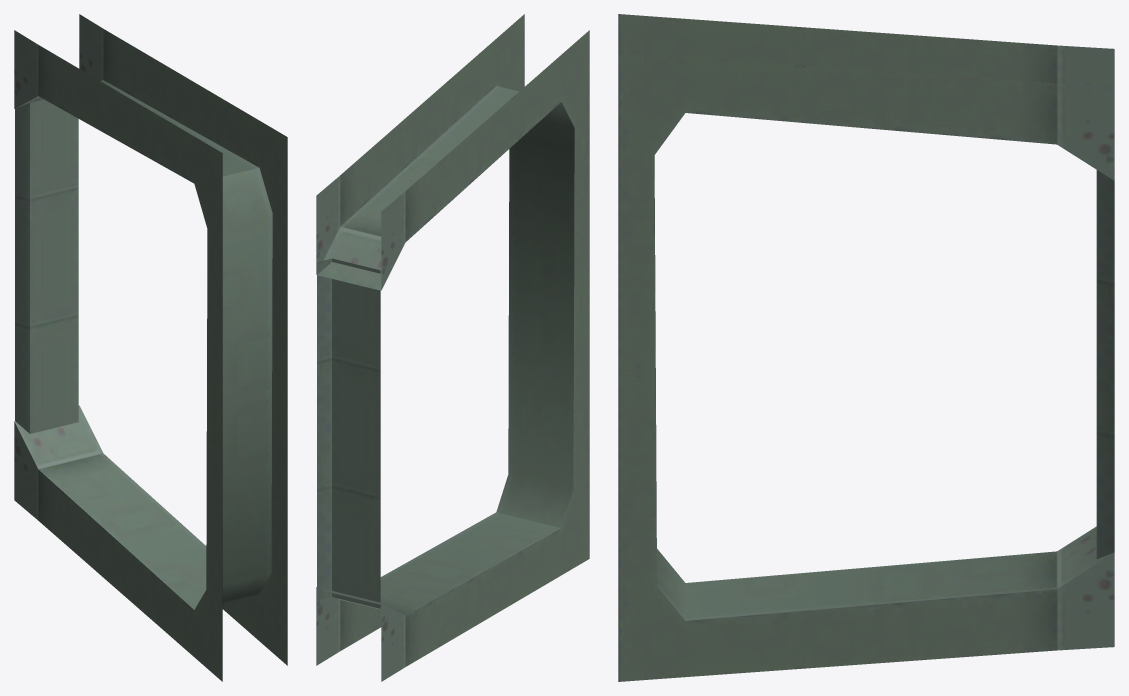
Rendered from partition_door_01_02610627__zombies2_diffuse_07_65562b6b_c1f257.obj.
3 views of the same model, side by side, from view 1: azimuth 30°, elevation 25°; view 2: azimuth 150°, elevation 25°; view 3: azimuth 270°, elevation 25° (orthographic). The views are drawn at different scales.
Bounding box in the file's own units: 1.5 × 11.62 × 8.29.
1 material, 1 textured.
